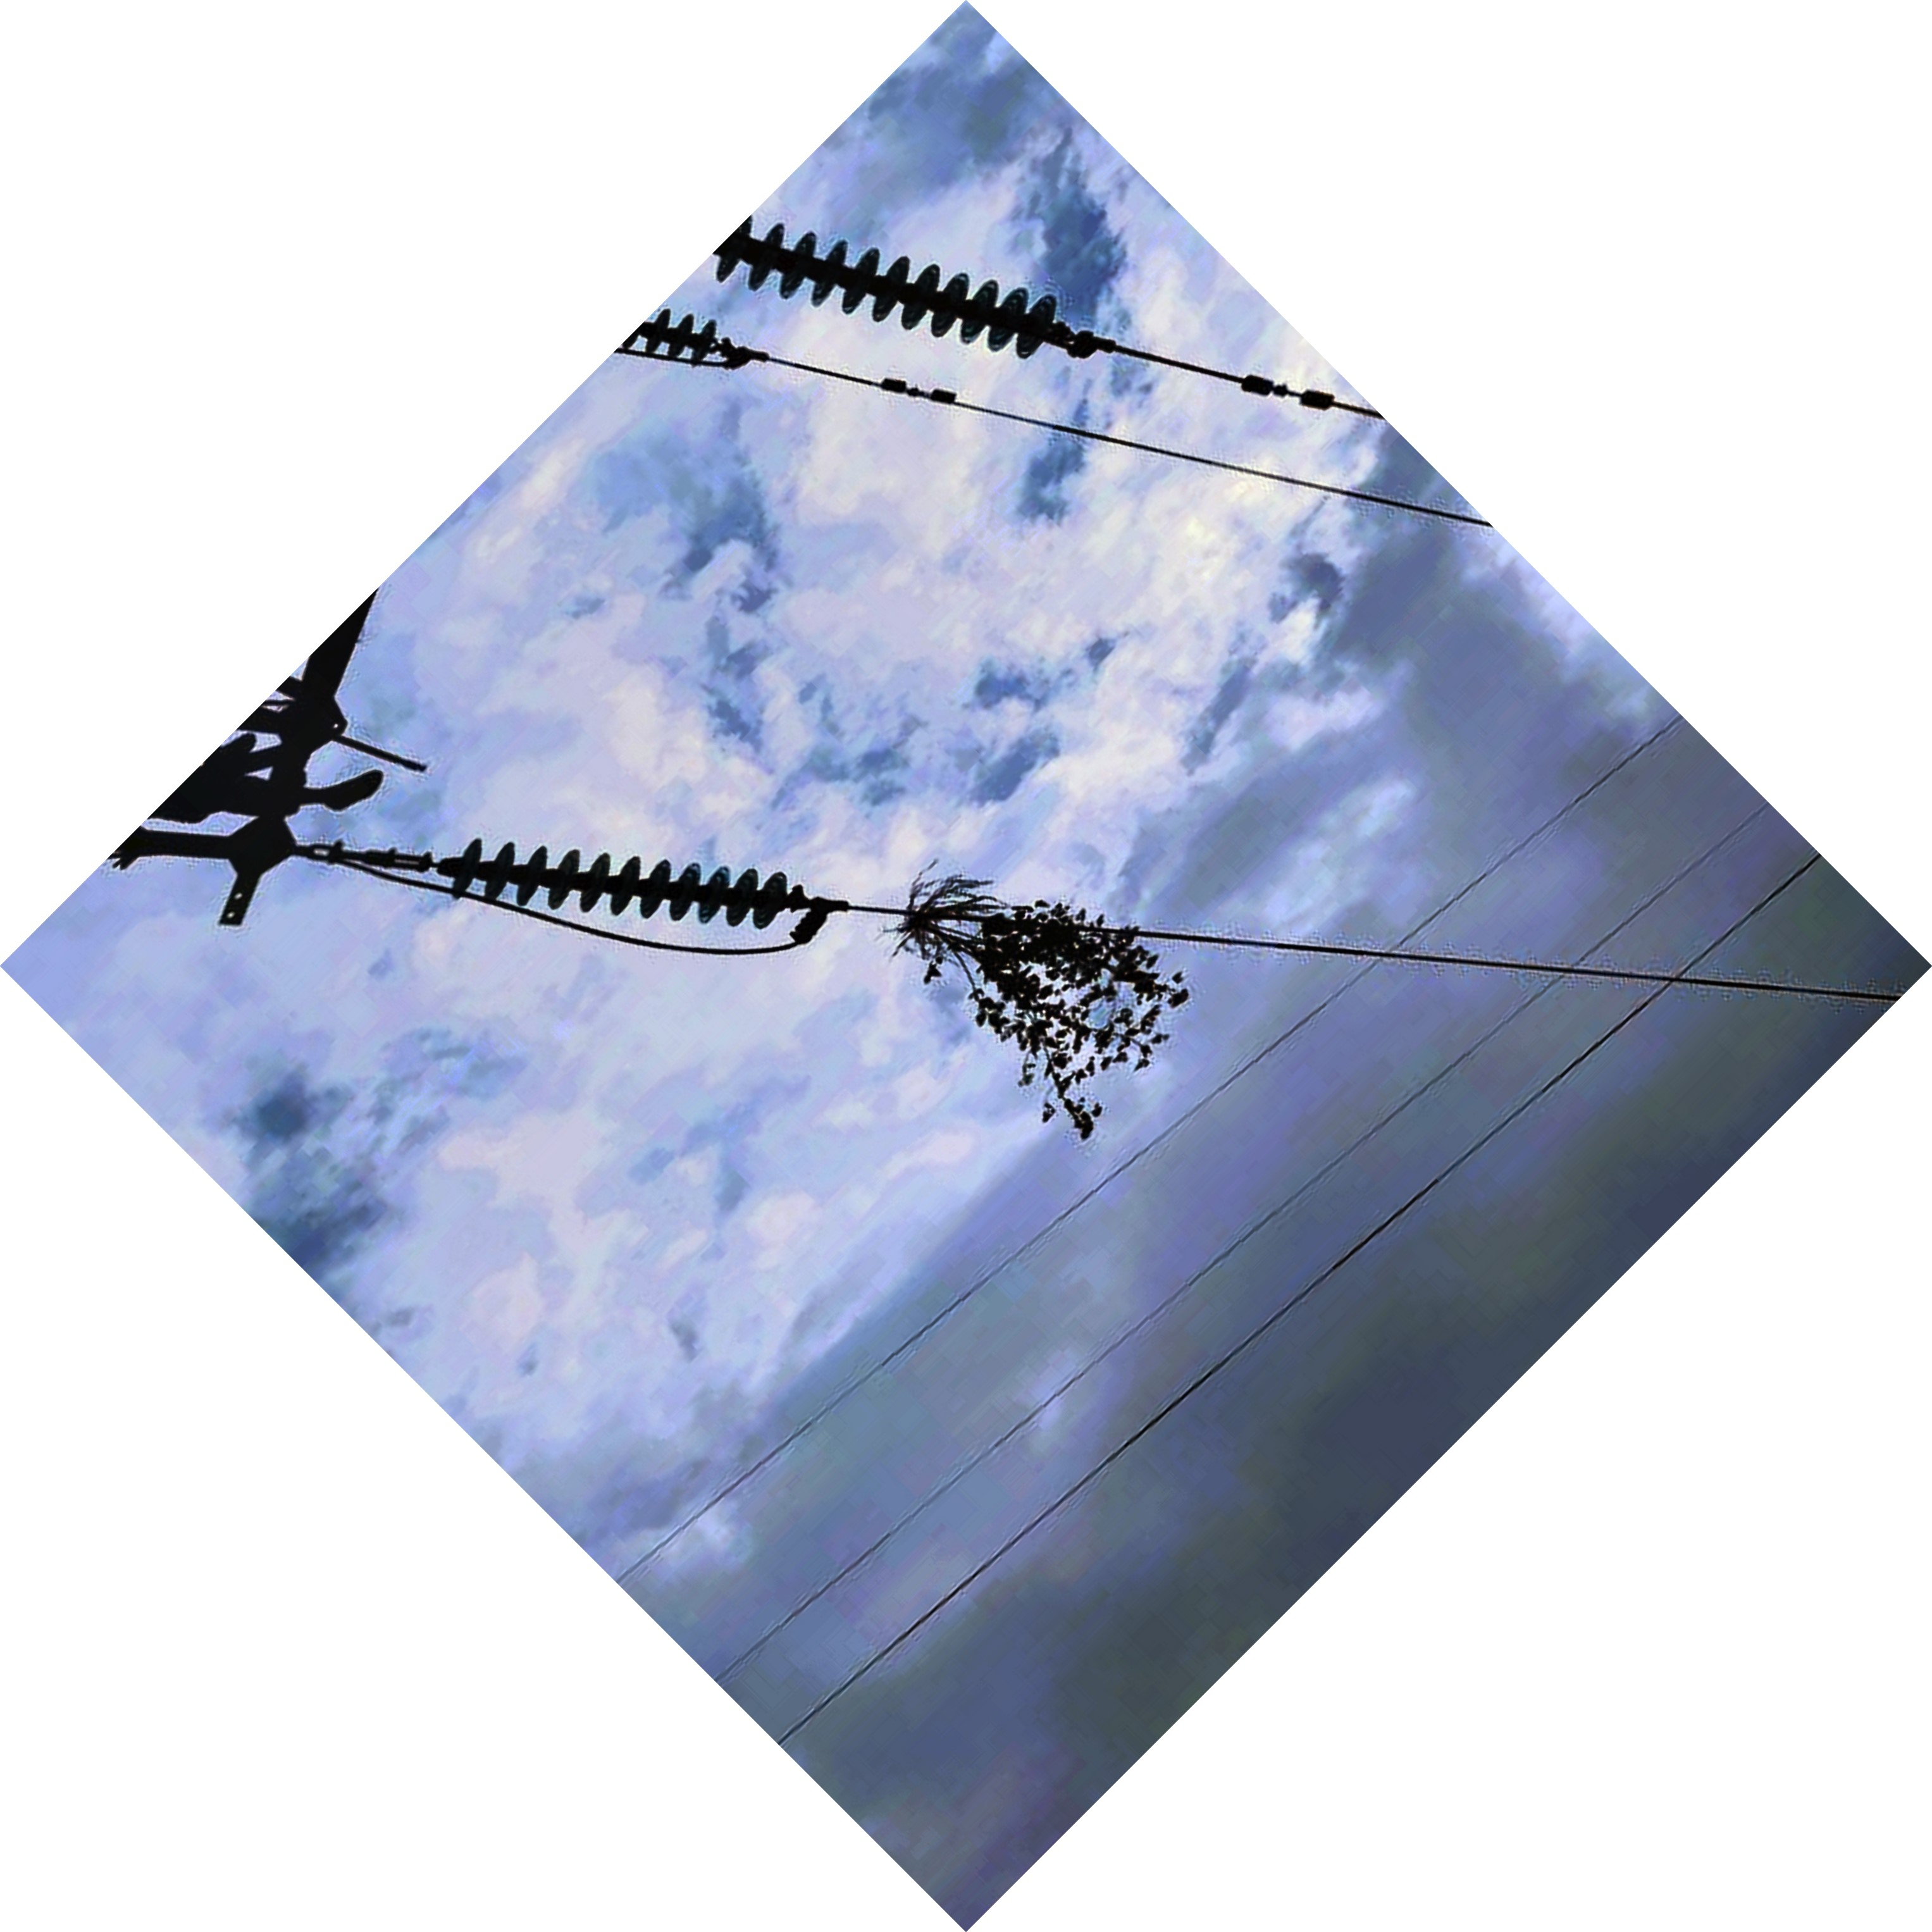wire foreign body: (869, 851, 1246, 1148)
